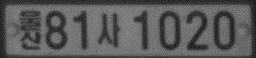0: (212, 9, 235, 50), (158, 10, 181, 50)
1: (70, 9, 96, 49), (132, 9, 154, 50)
2: (186, 10, 208, 51)
8: (44, 10, 68, 50)
사: (96, 12, 121, 48)
울산_V: (19, 9, 42, 49)
